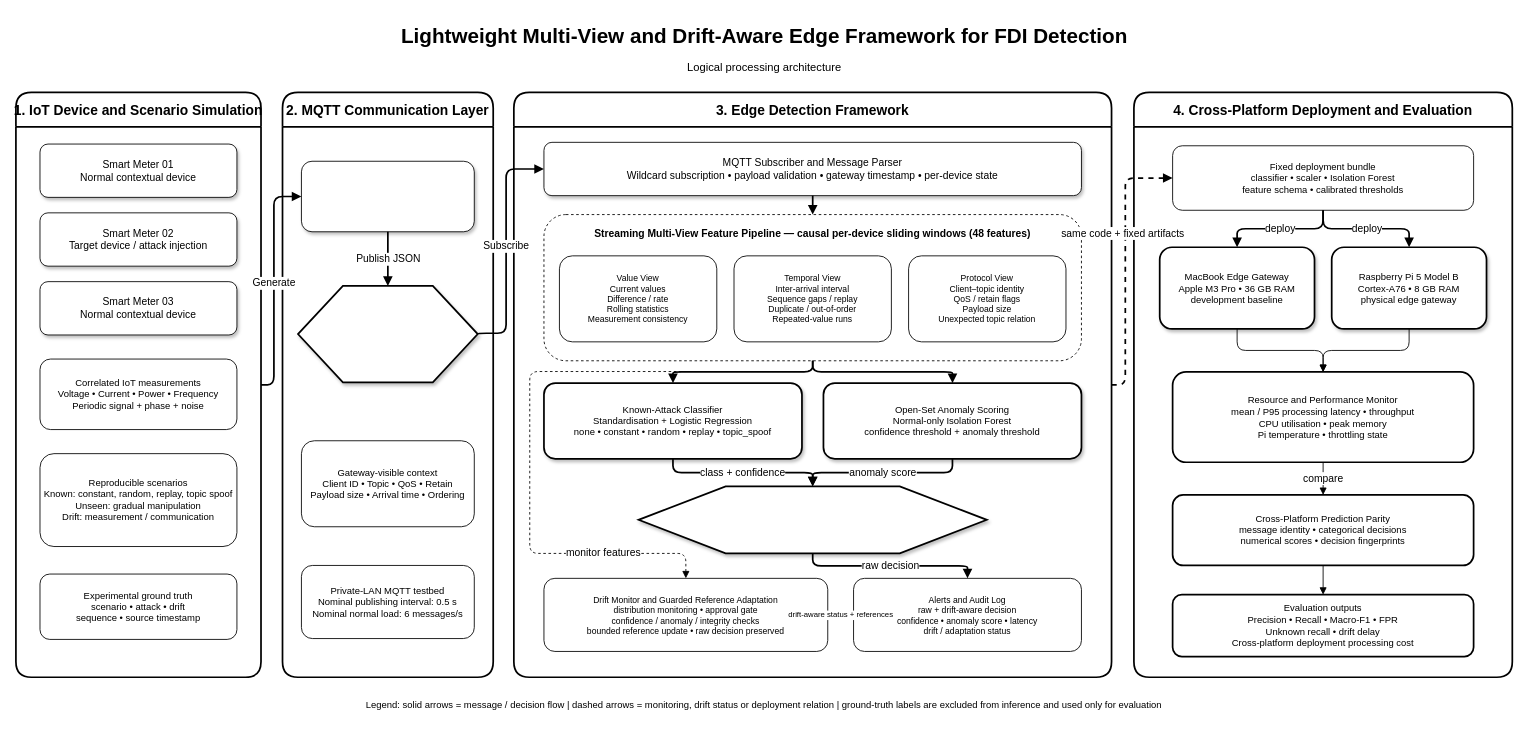
The diagram is 1528 pixels wide and 751 high, and some of its shapes have lost their labels. The centre of each missing label's shape, as x and y in pixels:
"Decision Engine Normal • Known FDI Class • Unknown / Rejected Anomaly" goes at [813,521].
"Mosquitto MQTT Broker grid/substation_01/ {device_id}/measurement" goes at [388,335].
"MQTT Publisher One JSON payload per device cycle QoS 0 • retain=false" goes at [388,197].
